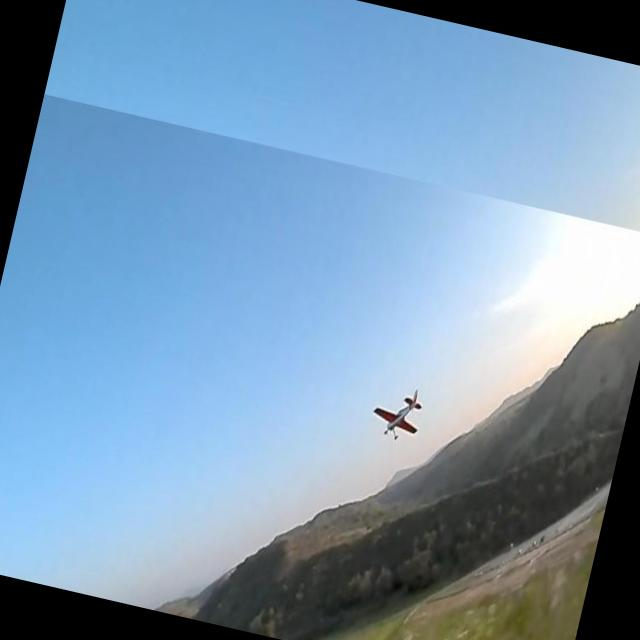UAV: (346, 368, 485, 478)
